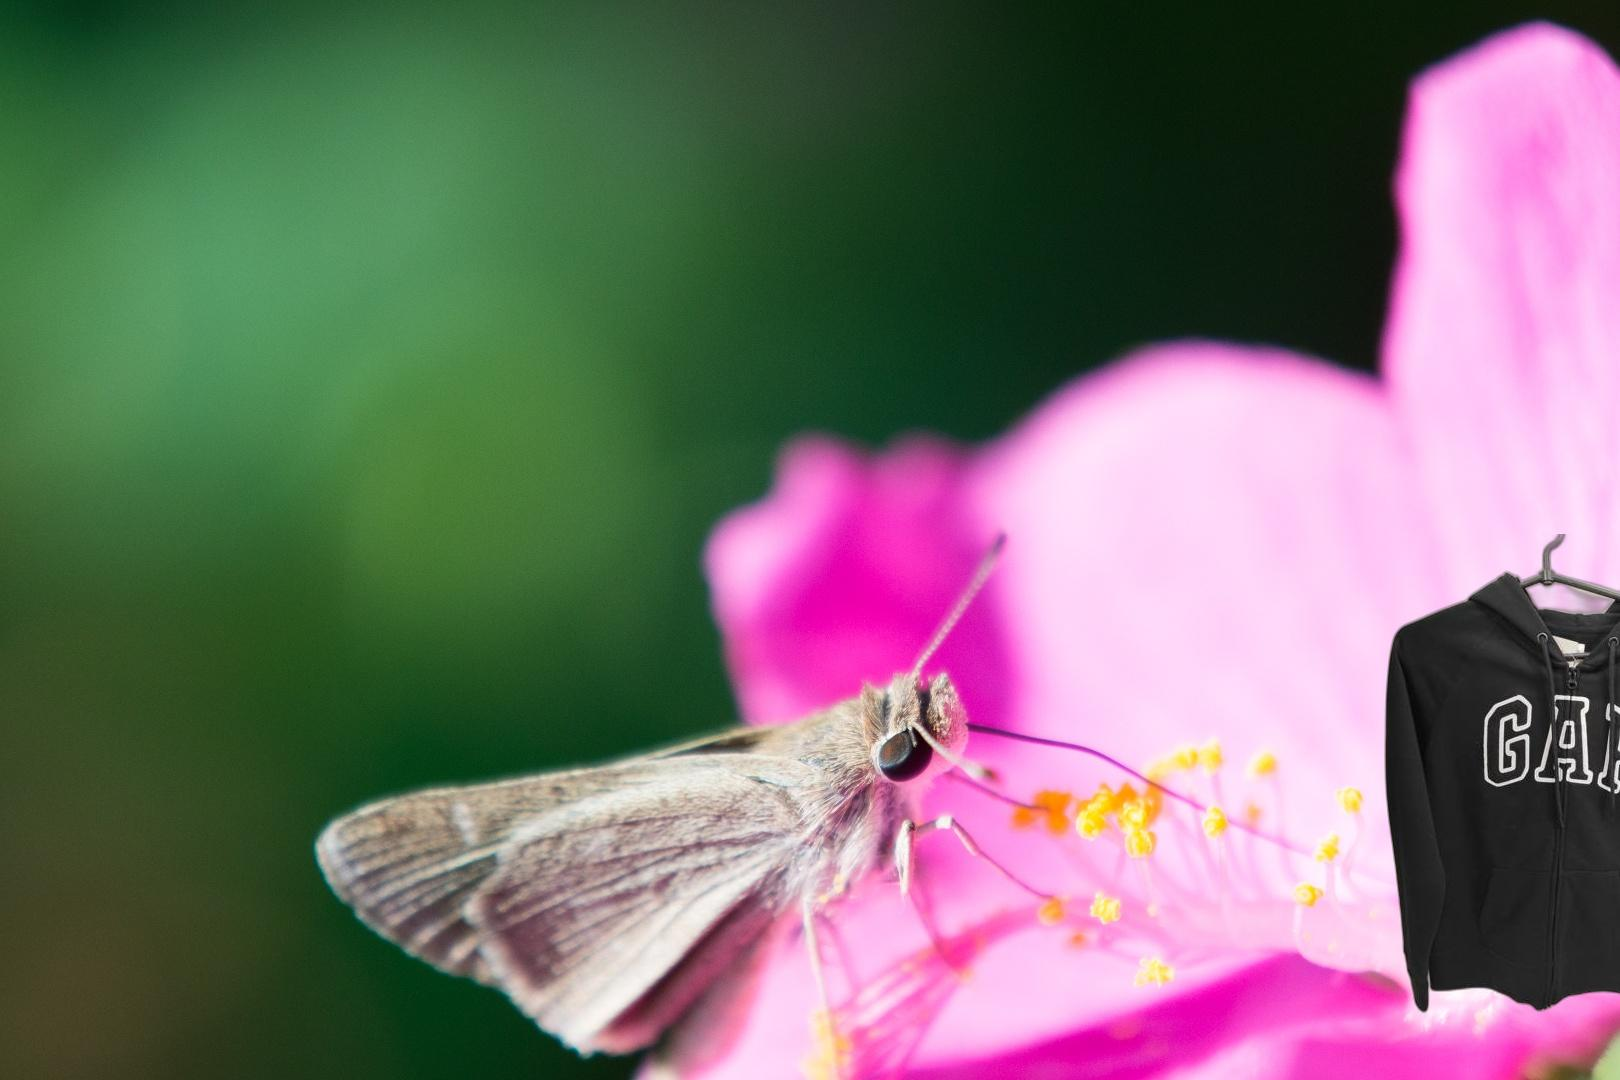clothes: (1383, 534, 1620, 1017)
